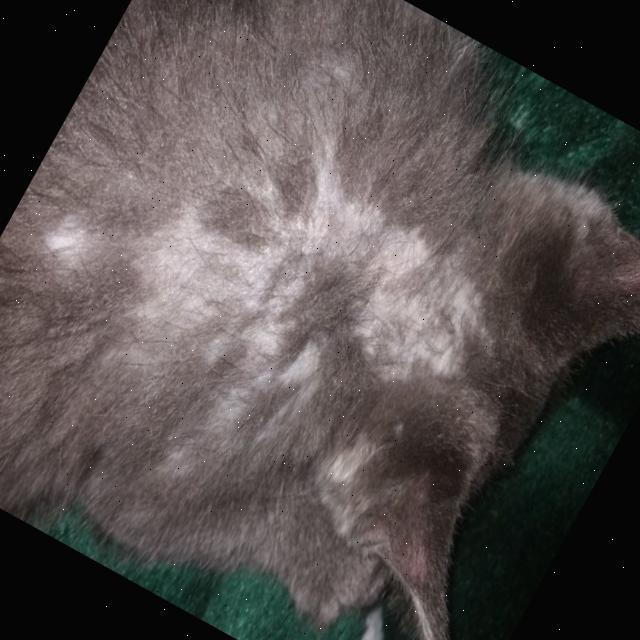cat-hairloss: (122, 212, 356, 418), (289, 193, 493, 352)
